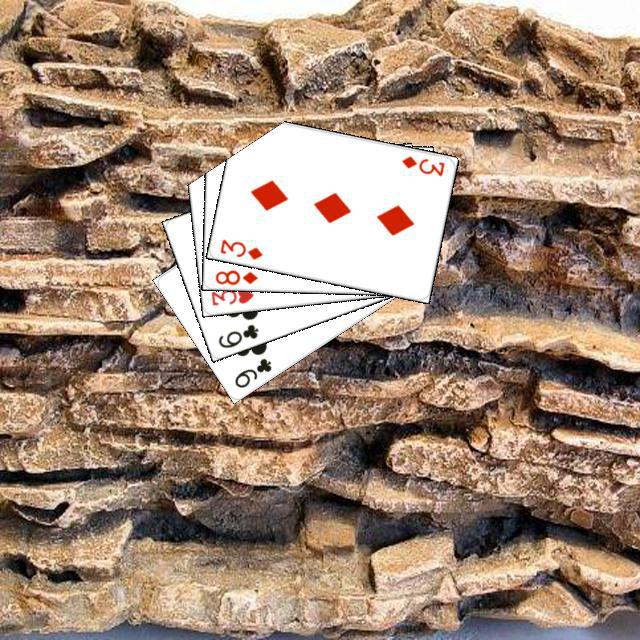3d: (215, 234, 264, 261), (397, 151, 446, 178)
3h: (206, 284, 255, 307)
6c: (213, 319, 260, 350)
8d: (211, 265, 259, 286)
9c: (229, 353, 273, 390)
